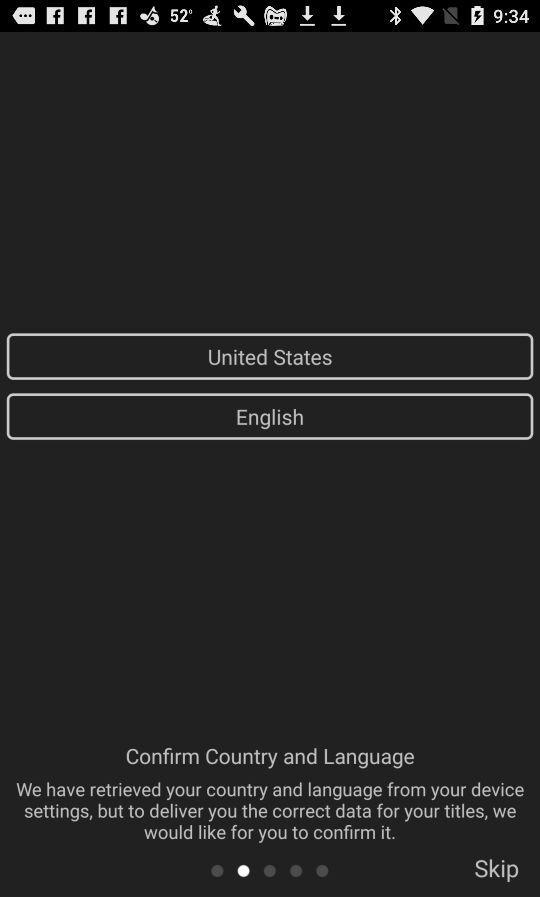PageIndicator: (209, 863, 330, 880)
Text: (17, 781, 526, 843), (126, 747, 416, 771), (474, 858, 519, 883)
TextButton: (7, 333, 534, 381), (7, 393, 534, 441)
UpperTaskBar: (1, 1, 540, 33)
